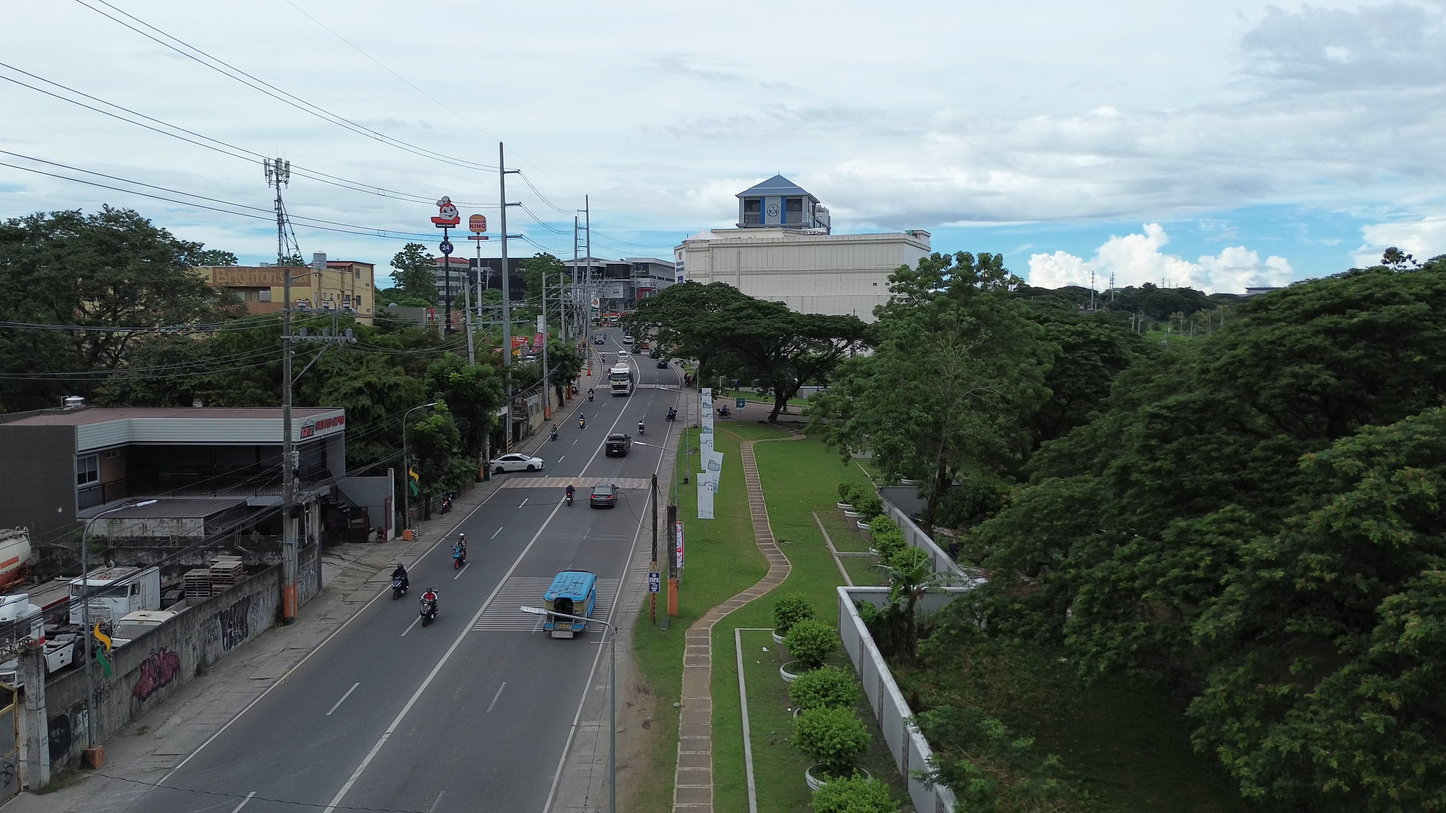car: (490, 453, 544, 473), (589, 483, 617, 507), (622, 334, 633, 344), (656, 359, 668, 368)
motorcycle: (420, 592, 437, 626), (392, 577, 407, 600), (453, 547, 465, 569), (441, 495, 453, 514), (666, 408, 676, 421), (565, 492, 574, 506), (550, 428, 559, 441), (637, 421, 645, 435), (578, 416, 585, 429), (588, 390, 594, 402)
vehicle: (70, 566, 160, 624), (544, 570, 596, 618), (116, 610, 178, 627), (609, 363, 635, 396), (419, 590, 438, 626), (604, 433, 631, 456), (593, 333, 606, 344), (666, 407, 676, 421), (638, 420, 645, 435)
